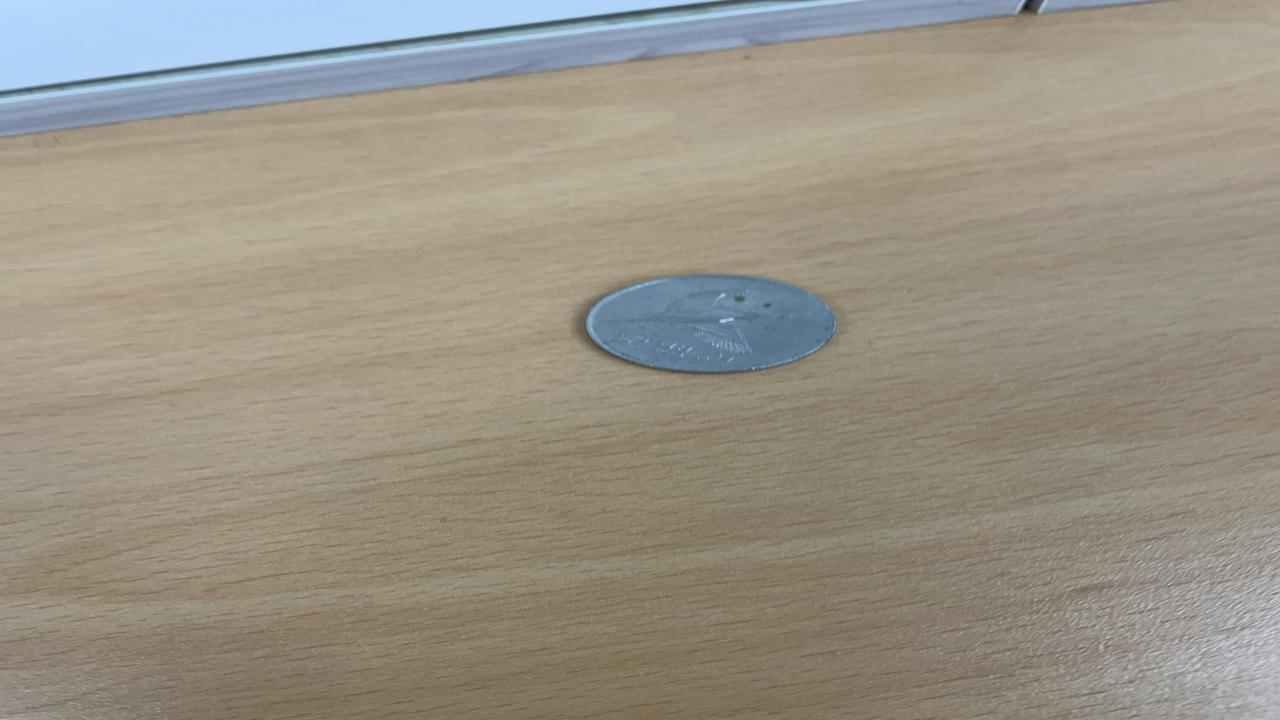coin: (581, 273, 840, 373)
